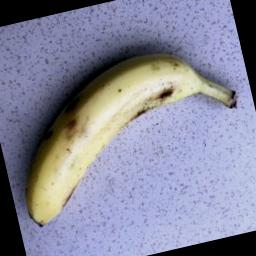Banana Ripe: (0, 25, 256, 250)
